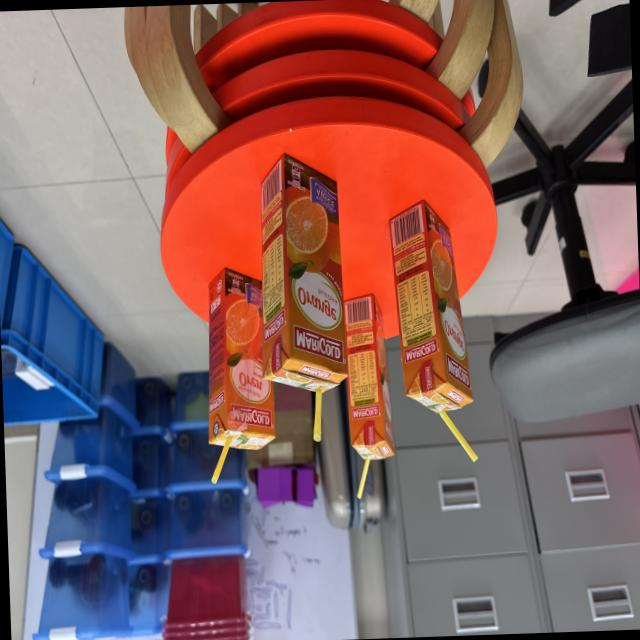drink_carton: (250, 138, 354, 450), (382, 194, 486, 470), (193, 253, 283, 490), (341, 280, 400, 507)
